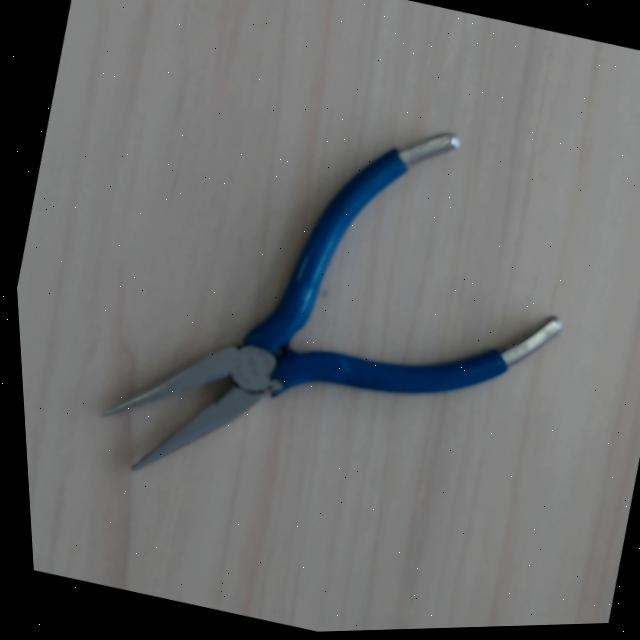Tang-Jepit-Biru: (57, 118, 567, 552)
